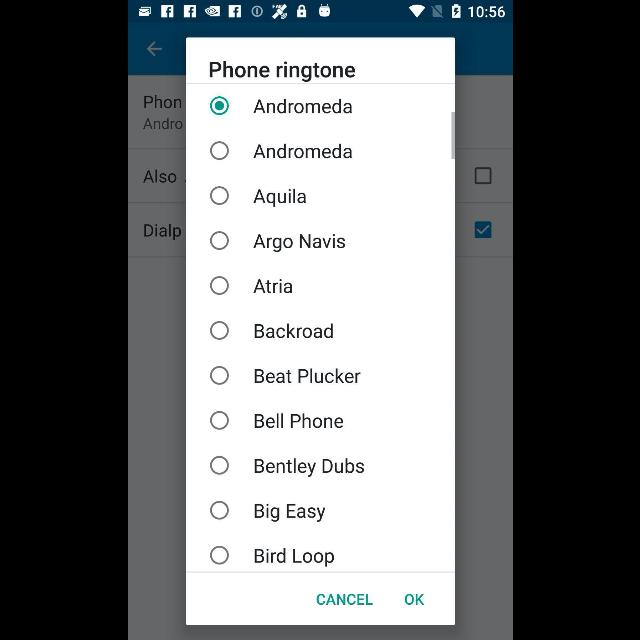checkbox: (208, 96, 228, 115), (208, 366, 228, 384), (208, 411, 228, 429), (208, 456, 228, 474), (210, 142, 228, 160), (210, 187, 228, 205), (209, 231, 227, 249), (210, 276, 228, 294), (209, 321, 227, 339), (209, 501, 227, 519), (209, 546, 227, 564)
icon: (146, 42, 162, 56)
panel: (185, 38, 455, 624)
text: (209, 61, 355, 83), (253, 458, 363, 478), (254, 368, 360, 384), (252, 234, 344, 252), (252, 98, 352, 114), (254, 548, 334, 568), (252, 144, 352, 158), (253, 503, 324, 522), (254, 414, 342, 428), (254, 324, 332, 338), (252, 188, 306, 208), (316, 593, 372, 605), (252, 279, 292, 293), (404, 593, 424, 605)
uppertaskbar: (128, 1, 512, 23)
